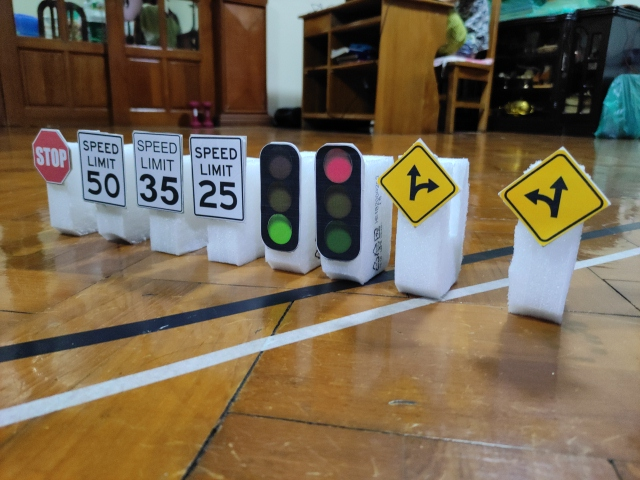Green Traffic Light: (260, 142, 301, 252)
Red Traffic Light: (315, 141, 364, 263)
Speed Limit 25: (188, 133, 247, 223)
Speed Limit 35: (132, 130, 185, 213)
Speed Limit 50: (77, 128, 128, 207)
Stop Sign: (31, 127, 72, 186)
Straight Or Left Sign: (504, 152, 606, 244)
Straight Or Right Sign: (379, 140, 457, 226)
